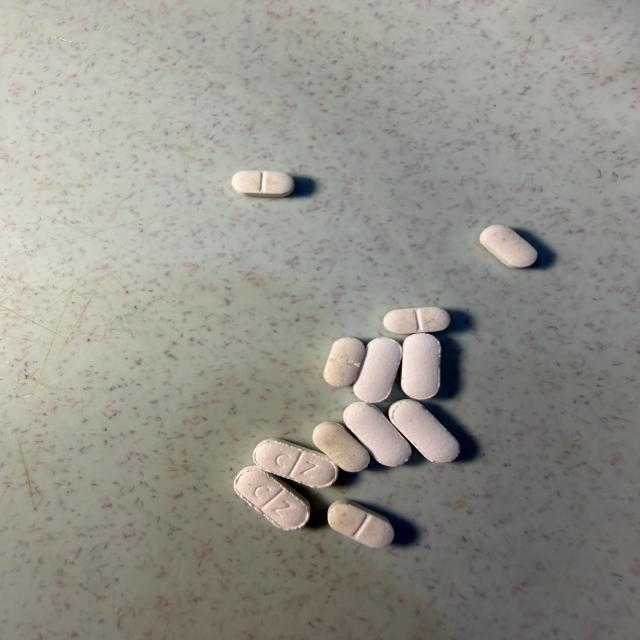pill: (234, 466, 310, 530), (389, 399, 460, 462), (344, 402, 411, 466), (253, 439, 338, 488), (328, 499, 394, 548), (354, 338, 402, 402), (313, 422, 369, 472), (401, 334, 441, 399), (480, 225, 537, 267), (324, 337, 365, 386), (383, 307, 450, 333), (232, 171, 294, 197)
